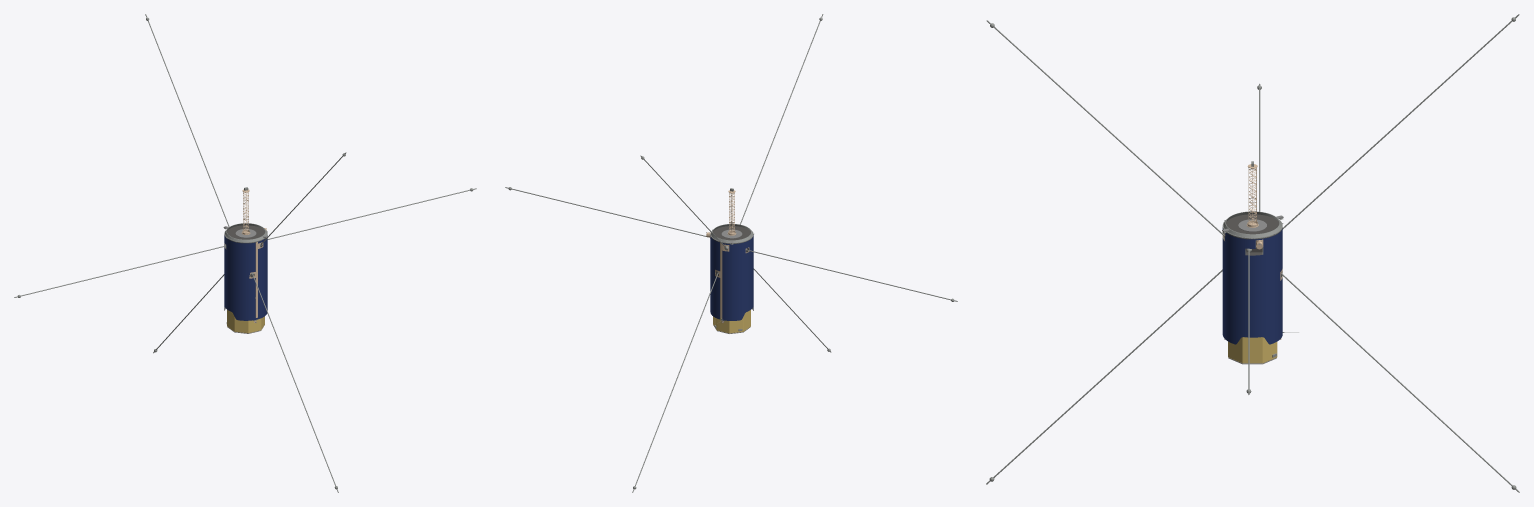
Rendered from atmosphere-space-transition-region-explorer-astr.glb.
3 renders of one model, left to right at view 1: azimuth 30°, elevation 25°; view 2: azimuth 150°, elevation 25°; view 3: azimuth 270°, elevation 25°, orthographic. The views are drawn at different scales.
Visible parts, largest first — view 1: main body; view 2: main body; view 3: main body.
Part boxes in pixels (x1,y1,x2,y2): main body: (14,14,476,492); main body: (505,14,957,492); main body: (986,14,1519,492).
Size of the model in its own units: 110 by 78.27 by 80.01.
Materials: 3 (3 with a texture image).
